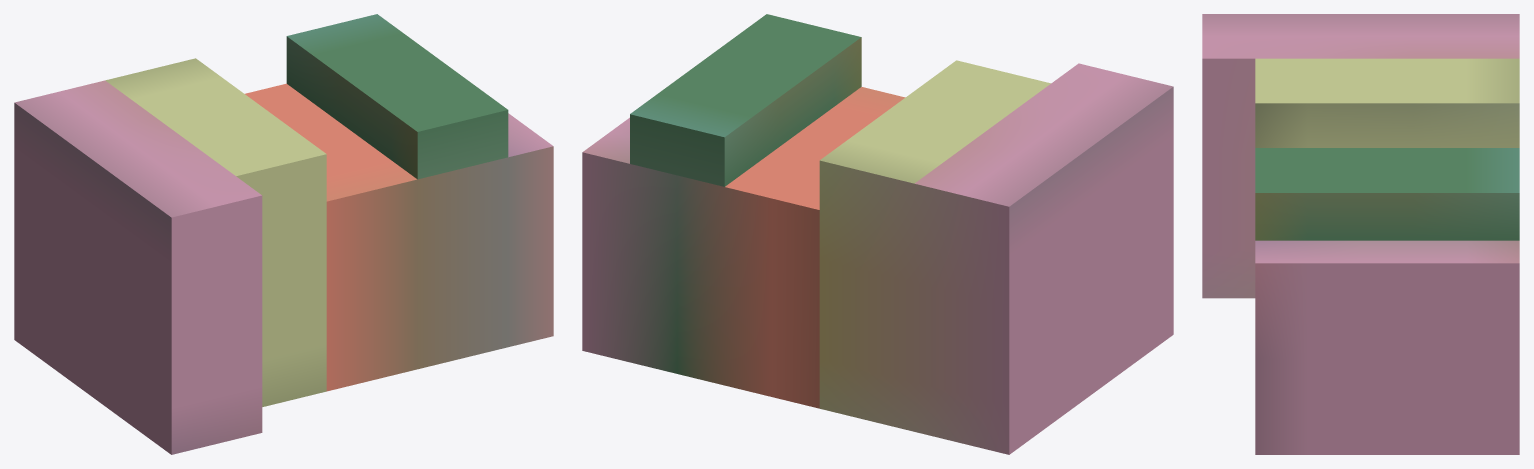
File: Book5Pieces_01.fbx
3 views of the same model, side by side, from view 1: azimuth 30°, elevation 25°; view 2: azimuth 150°, elevation 25°; view 3: azimuth 270°, elevation 25° (orthographic). The views are drawn at different scales.
Visible parts, largest first — view 1: Book5Pieces_01; view 2: Book5Pieces_01; view 3: Book5Pieces_01.
Boxes of the visible parts, box(x1,y1,x2,y2) form: Book5Pieces_01: box(14, 14, 553, 454); Book5Pieces_01: box(582, 14, 1173, 454); Book5Pieces_01: box(1202, 14, 1519, 454).
Bounding box in the file's own units: 45 × 30 × 25.
1 material, 1 textured.
